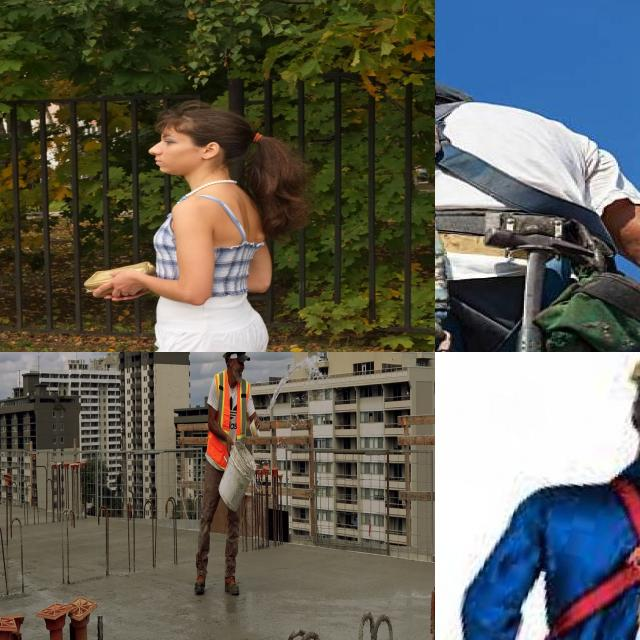Harness: (435, 102, 612, 243), (548, 540, 640, 640)
boots: (225, 567, 241, 602), (197, 571, 207, 596)
head_helmet: (223, 352, 248, 361)
person: (194, 352, 258, 602)
vest: (206, 370, 250, 472)
